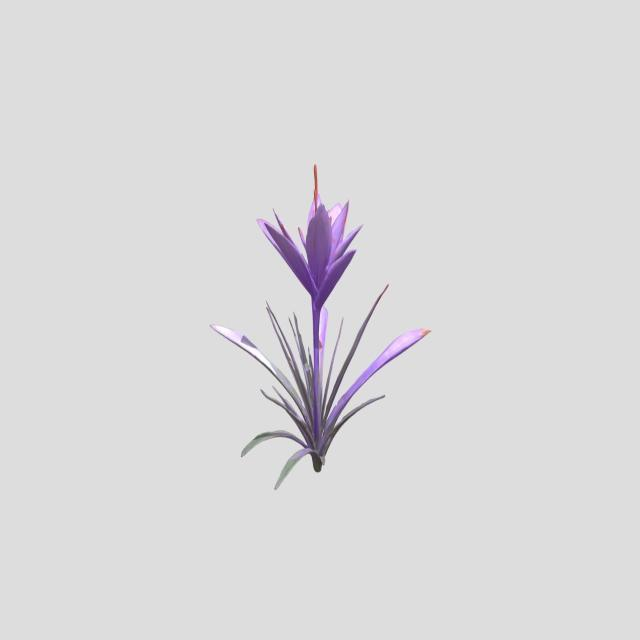Flower: (253, 184, 366, 298)
stigma: (299, 162, 330, 212)
